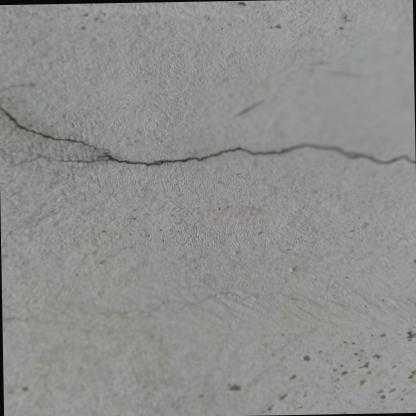crack: (0, 100, 415, 167)
